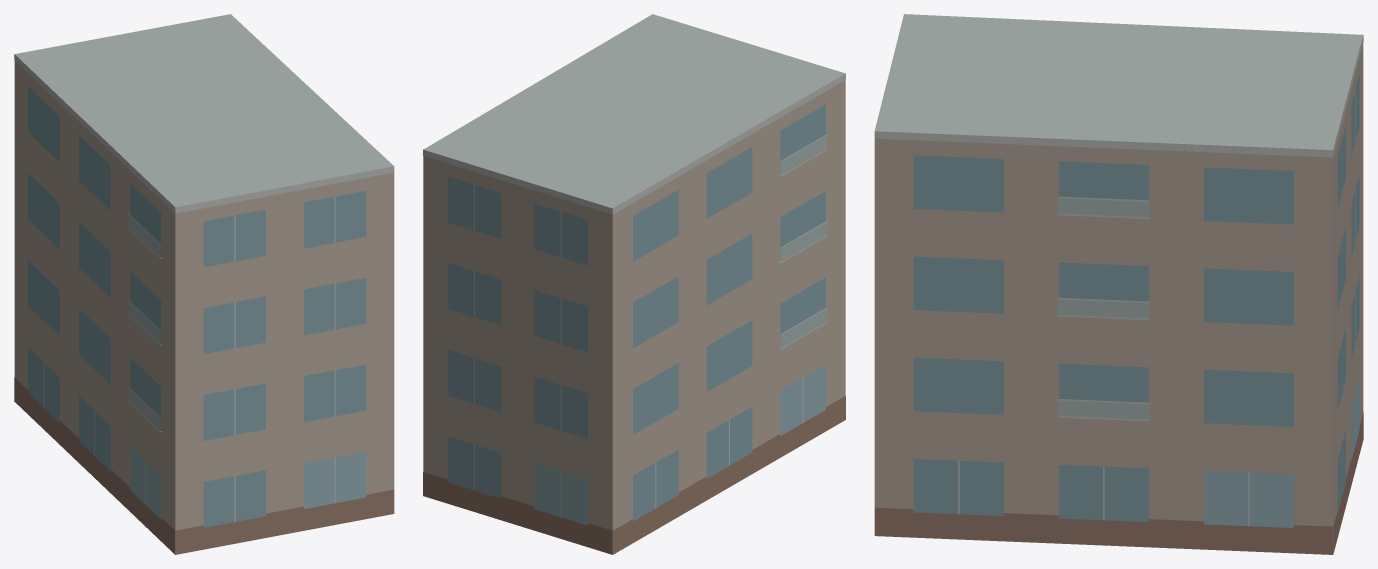
The model's file is survey-upis-32592089.glb.
The picture shows the model from 3 angles, left to right: view 1: azimuth 30°, elevation 25°; view 2: azimuth 150°, elevation 25°; view 3: azimuth 270°, elevation 25°; orthographic projection. The views are drawn at different scales.
Parts seen in each view (by area): view 1: survey-upis-32592089.tmp; view 2: survey-upis-32592089.tmp; view 3: survey-upis-32592089.tmp.
Part boxes in pixels (bbox=[...]): survey-upis-32592089.tmp: bbox=[14, 14, 394, 554]; survey-upis-32592089.tmp: bbox=[423, 14, 845, 554]; survey-upis-32592089.tmp: bbox=[874, 14, 1363, 554].
Bounding box in the file's own units: 9.68 × 13.4 × 14.68.
